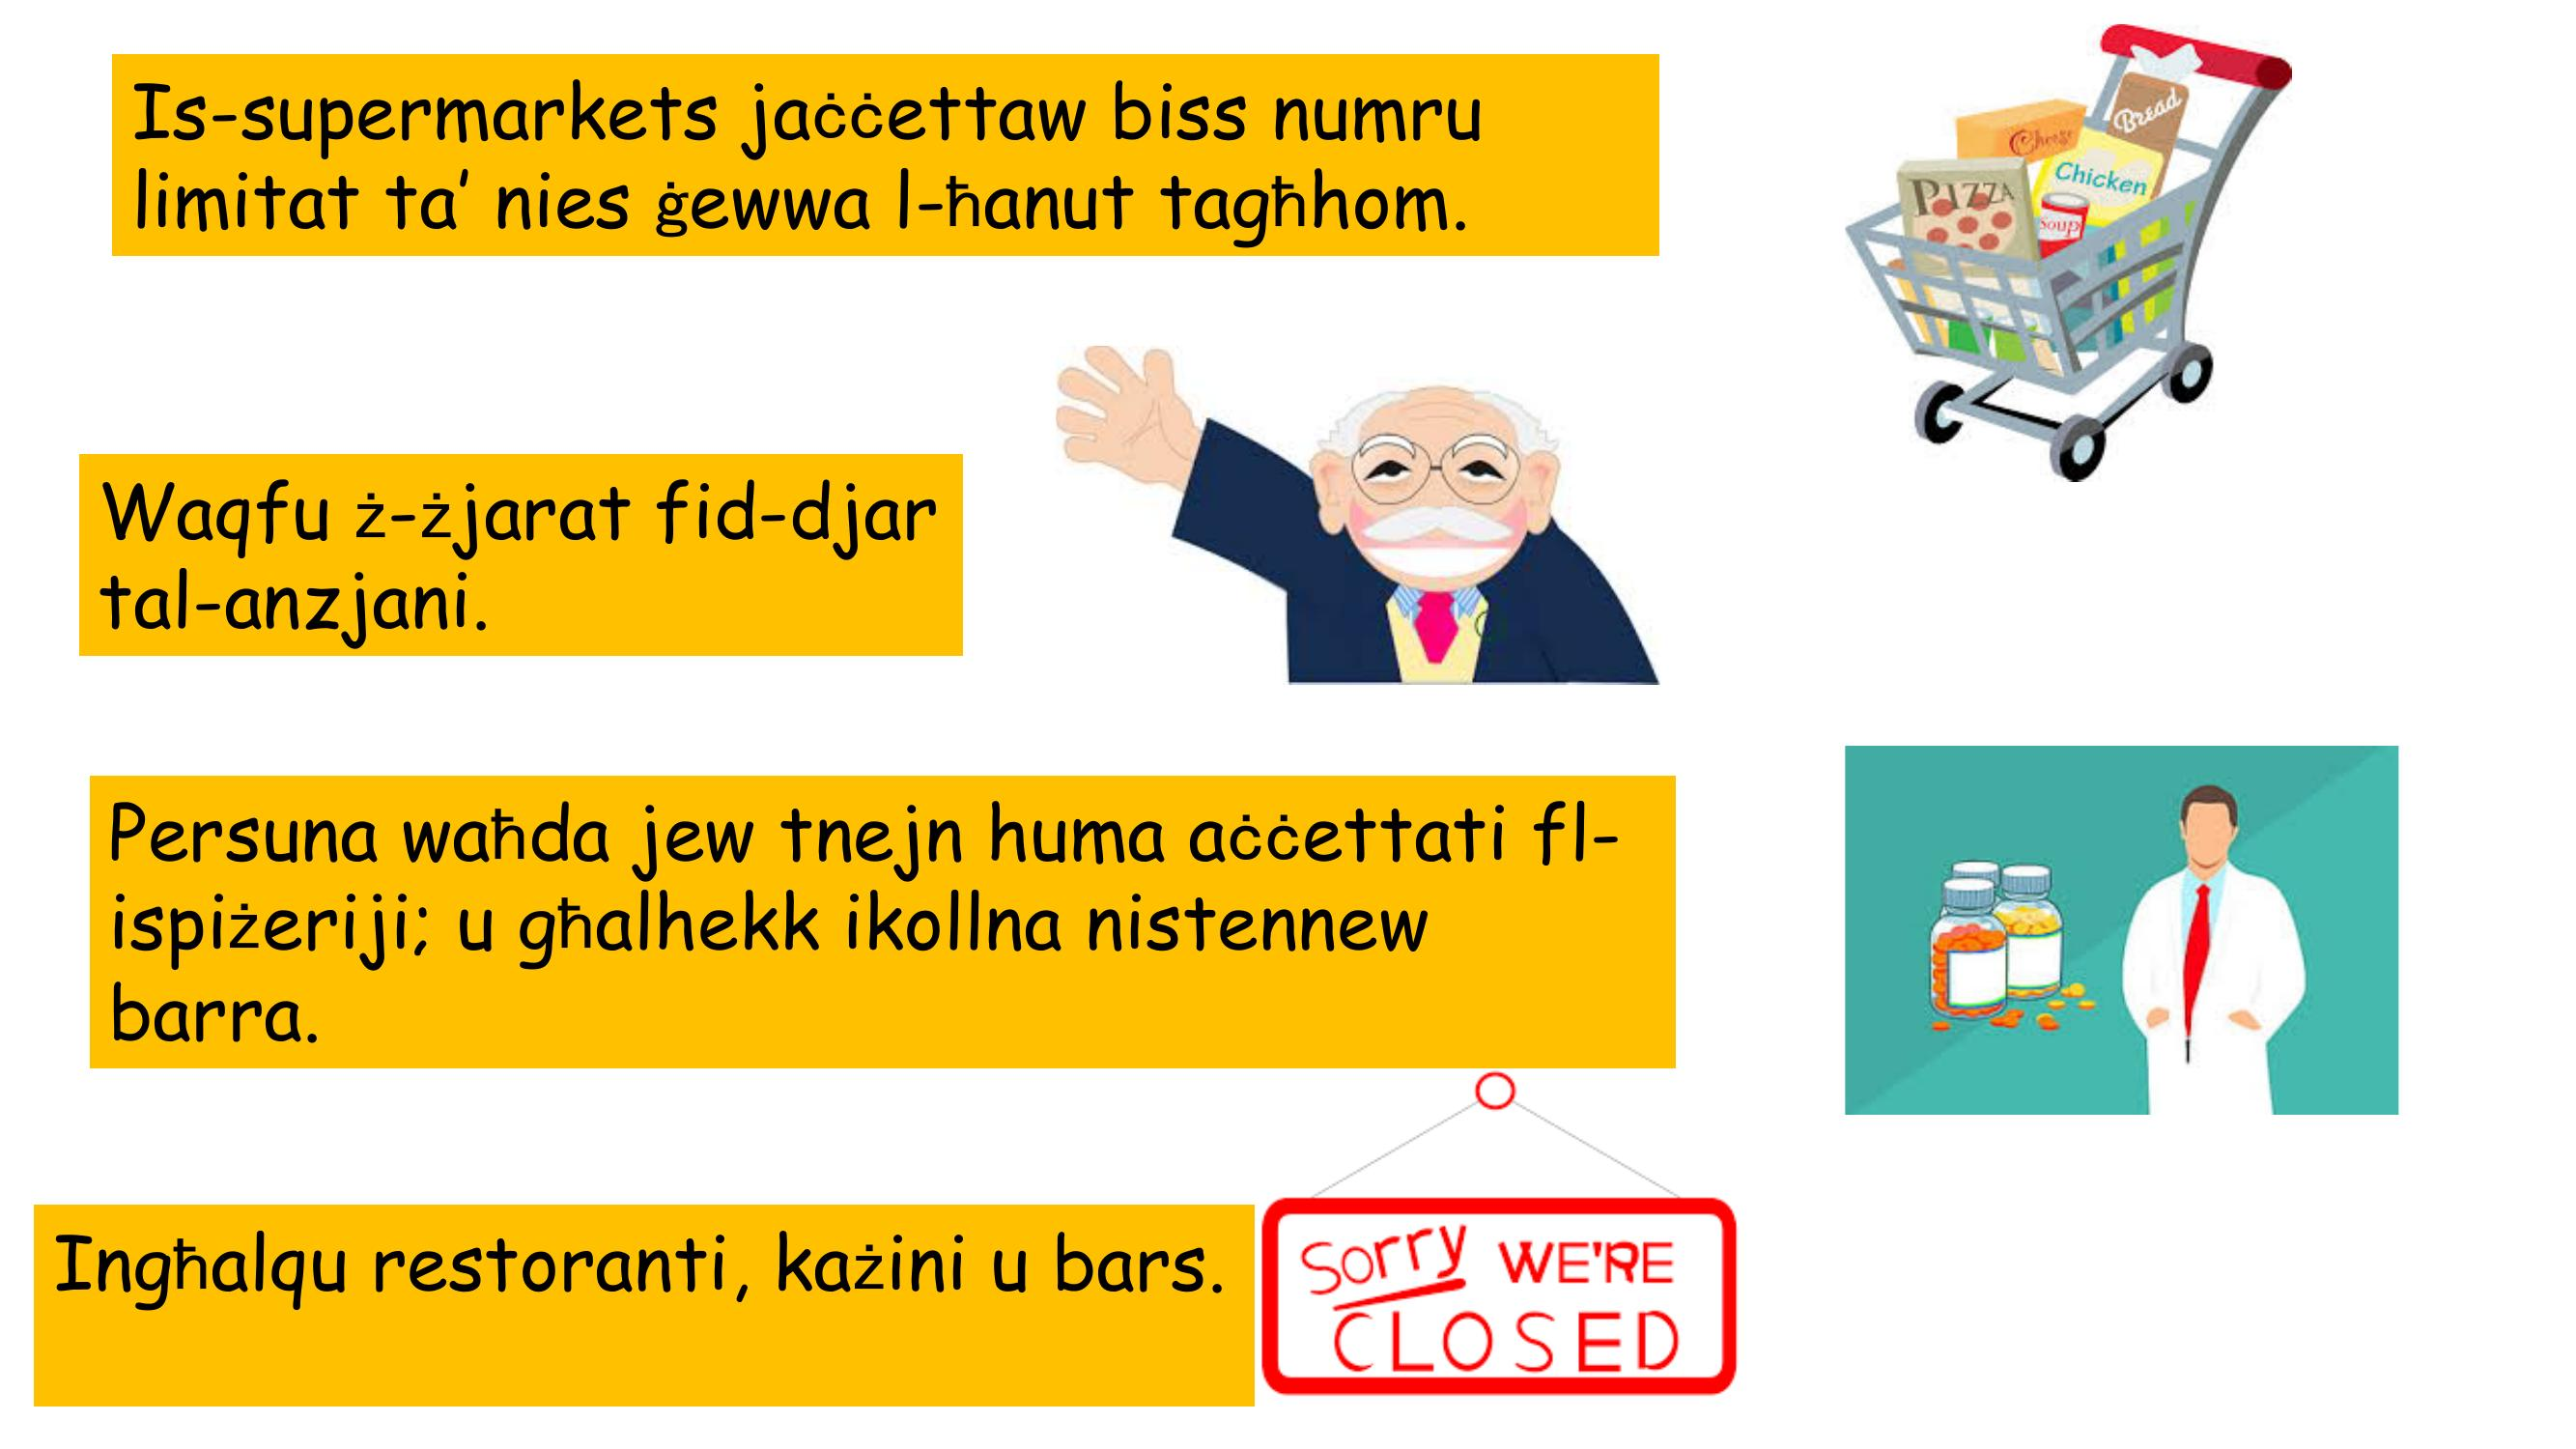text: (97, 789, 1631, 1056), (119, 62, 1502, 253), (87, 458, 947, 651), (39, 1212, 1231, 1338)
